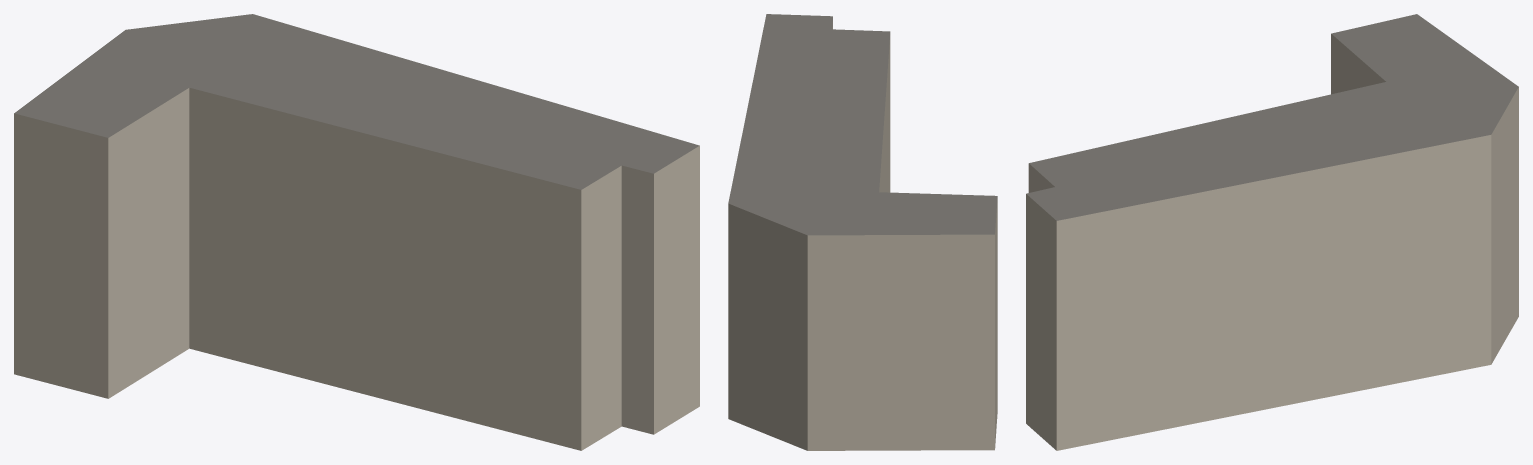
3 renders of one model, left to right at view 1: azimuth 30°, elevation 25°; view 2: azimuth 150°, elevation 25°; view 3: azimuth 270°, elevation 25°, orthographic. The views are drawn at different scales.
Visible parts, largest first — view 1: HP-w378107245; view 2: HP-w378107245; view 3: HP-w378107245.
Boxes of the visible parts, x1,y1,x2,y2 form: HP-w378107245: [14, 14, 699, 450]; HP-w378107245: [728, 14, 997, 450]; HP-w378107245: [1026, 14, 1518, 450].
Bounding box in the file's own units: 34.73 × 18 × 34.95.
